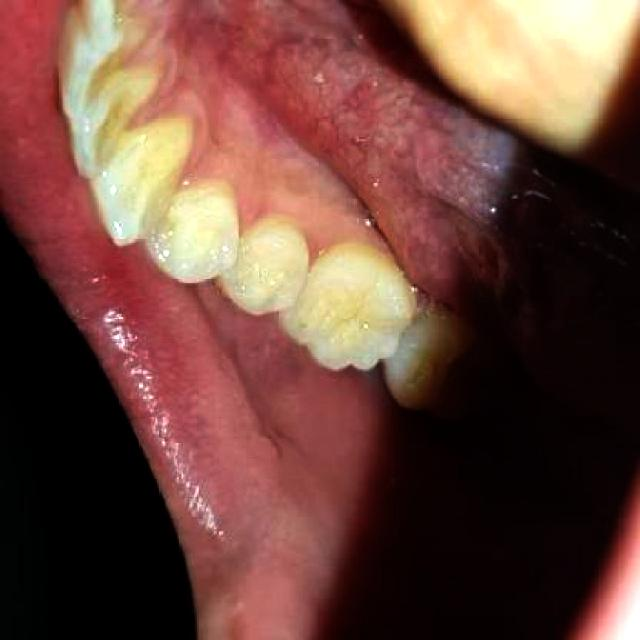Plaque: (285, 312, 334, 346)
